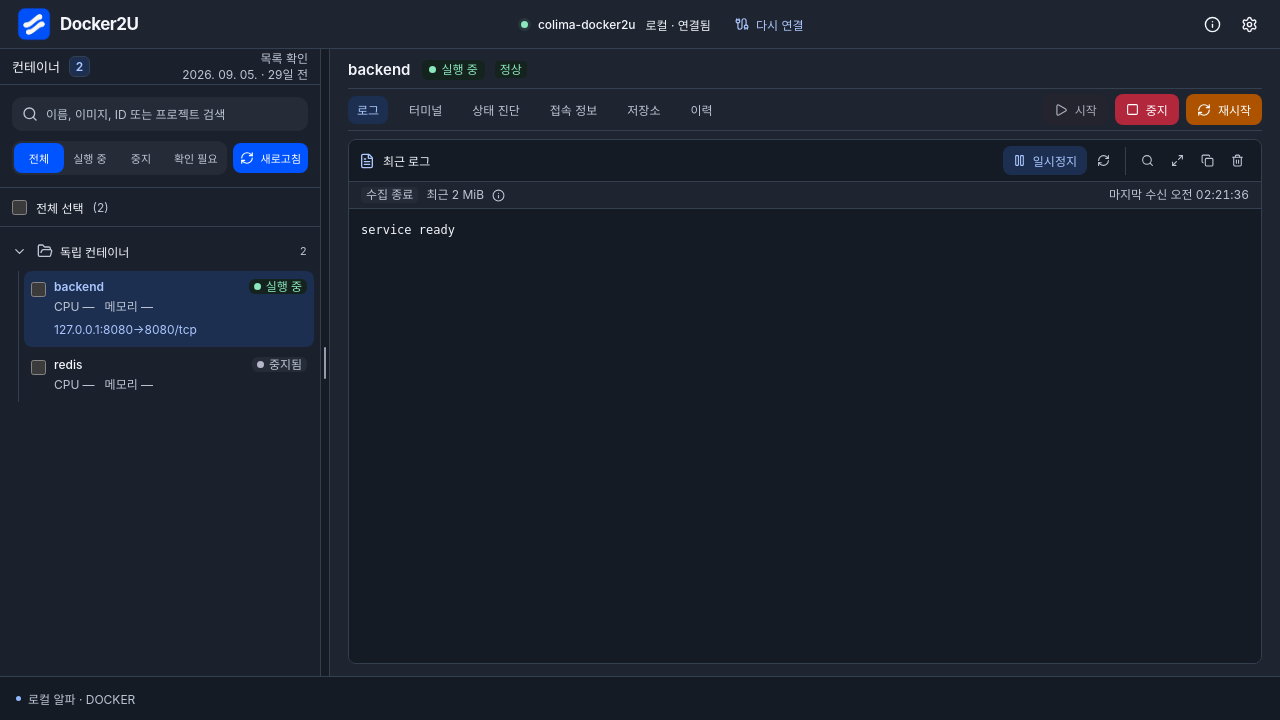
bulk selection and recovery › retains checked containers that remain visible after search and filter changes
Check: the list item with aria-label "backend 상세" is shown, box [24, 271, 314, 347]
Check: the button "새로고침" is enabled, box [232, 143, 308, 173]
Click the checkbox named "보이는 컨테이너 전체 선택" at (20, 207), box [12, 200, 27, 214]
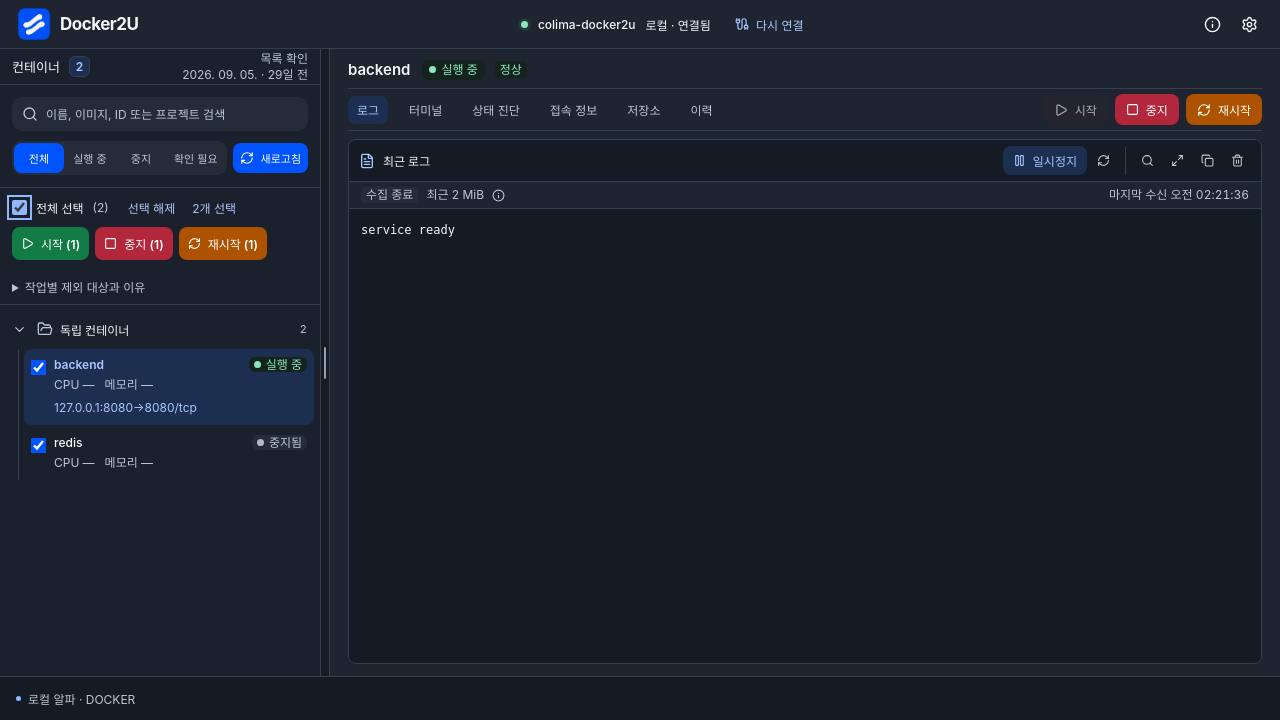
Check: the checkbox named "보이는 컨테이너 전체 선택" is checked, box [12, 200, 27, 214]
Check: the text "2개 선택" is shown, box [192, 198, 236, 216]
Type "redis" into the field named "컨테이너 검색" at (172, 114), box [46, 97, 298, 131]
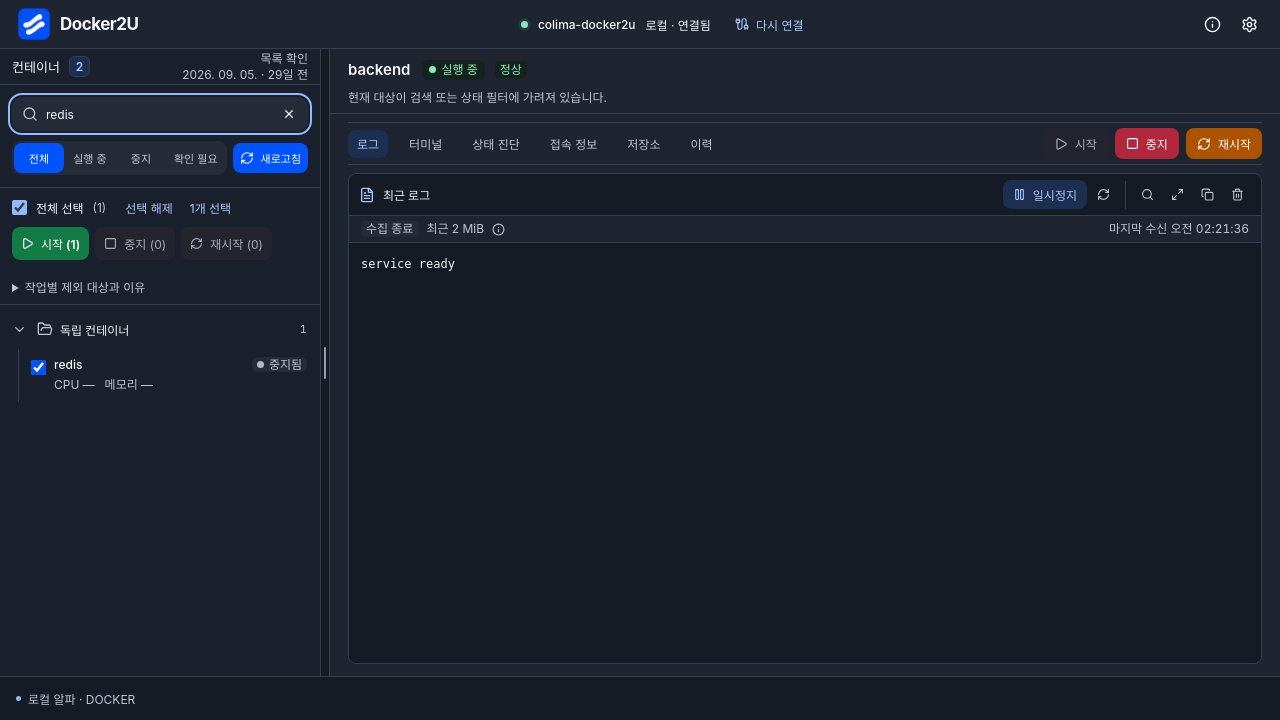
Check: the checkbox named "보이는 컨테이너 전체 선택" is checked, box [12, 200, 27, 214]
Check: the text "2개 선택" is gone
Check: the text "1개 선택" is shown, box [190, 198, 231, 216]
Click the button "시작 (1)" at (51, 244), box [12, 227, 89, 260]
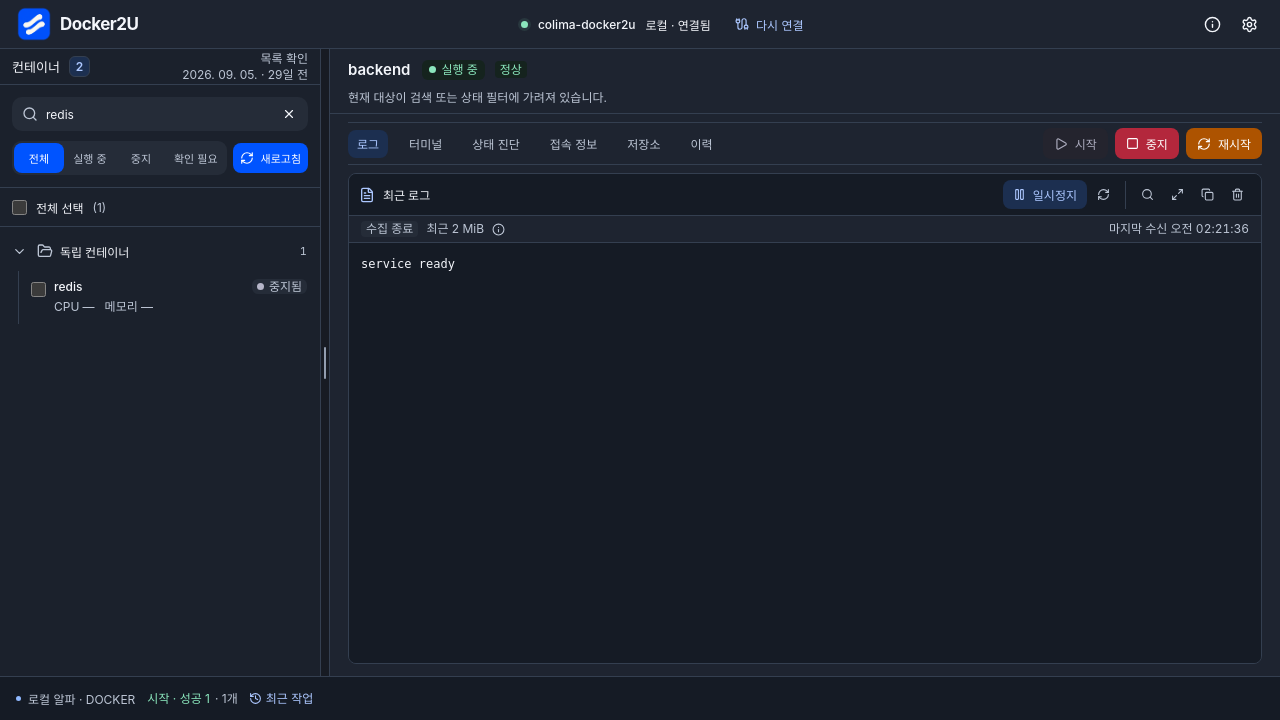
Check: the button "새로고침" is enabled, box [232, 143, 308, 173]
Check: the checkbox named "보이는 컨테이너 전체 선택" is not checked, box [12, 200, 27, 214]
Clear the field named "컨테이너 검색" at (159, 114), box [46, 97, 272, 131]
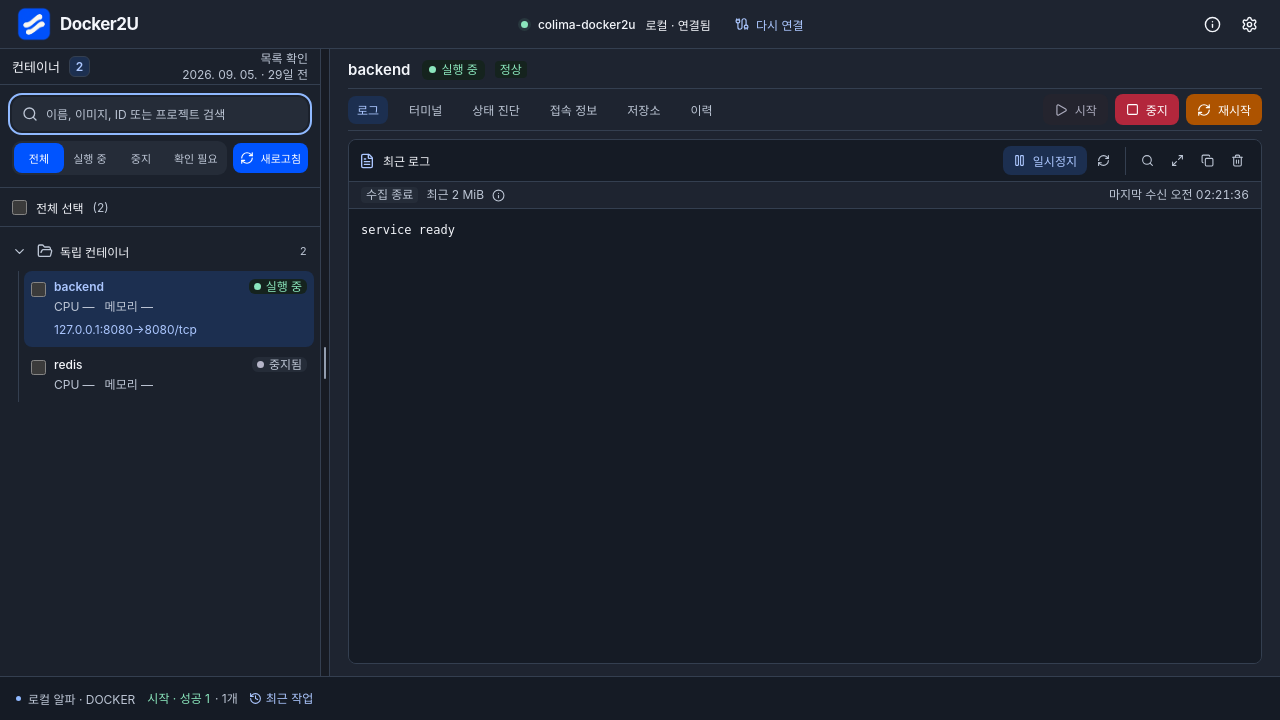
Click the checkbox named "보이는 컨테이너 전체 선택" at (20, 207), box [12, 200, 27, 214]
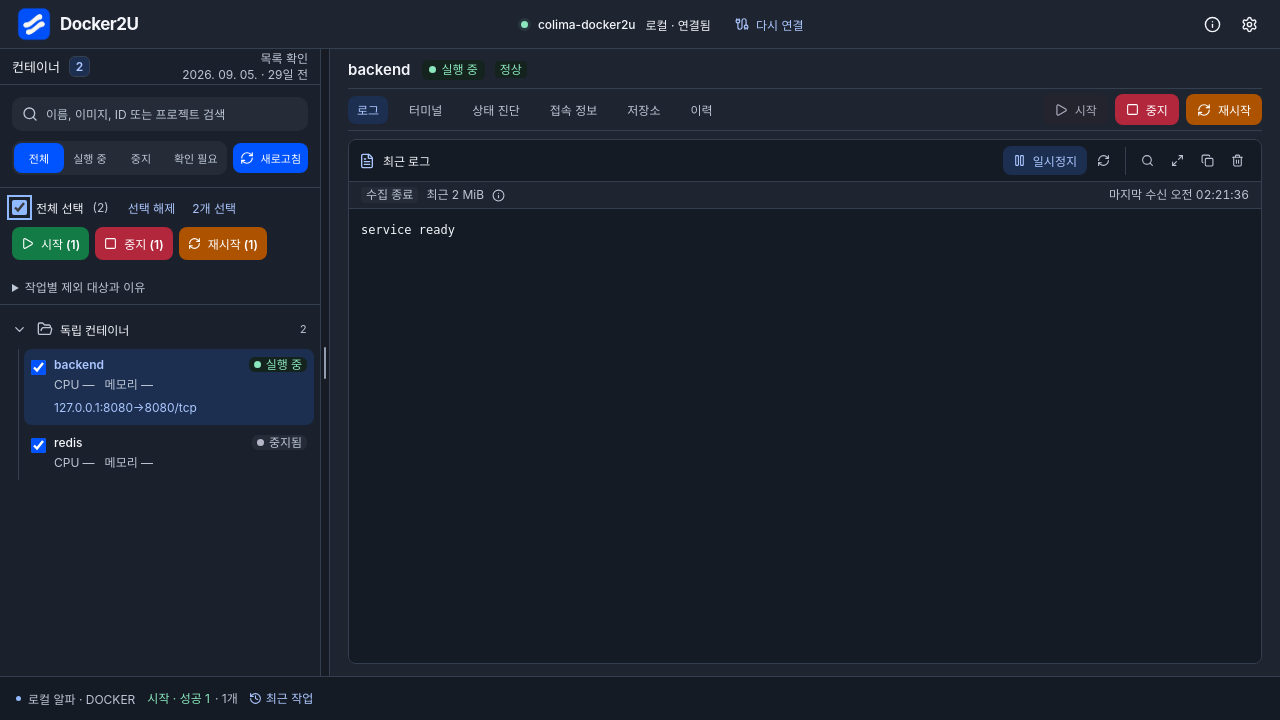
Click the button "실행 중" at (90, 158), box [65, 143, 115, 173]
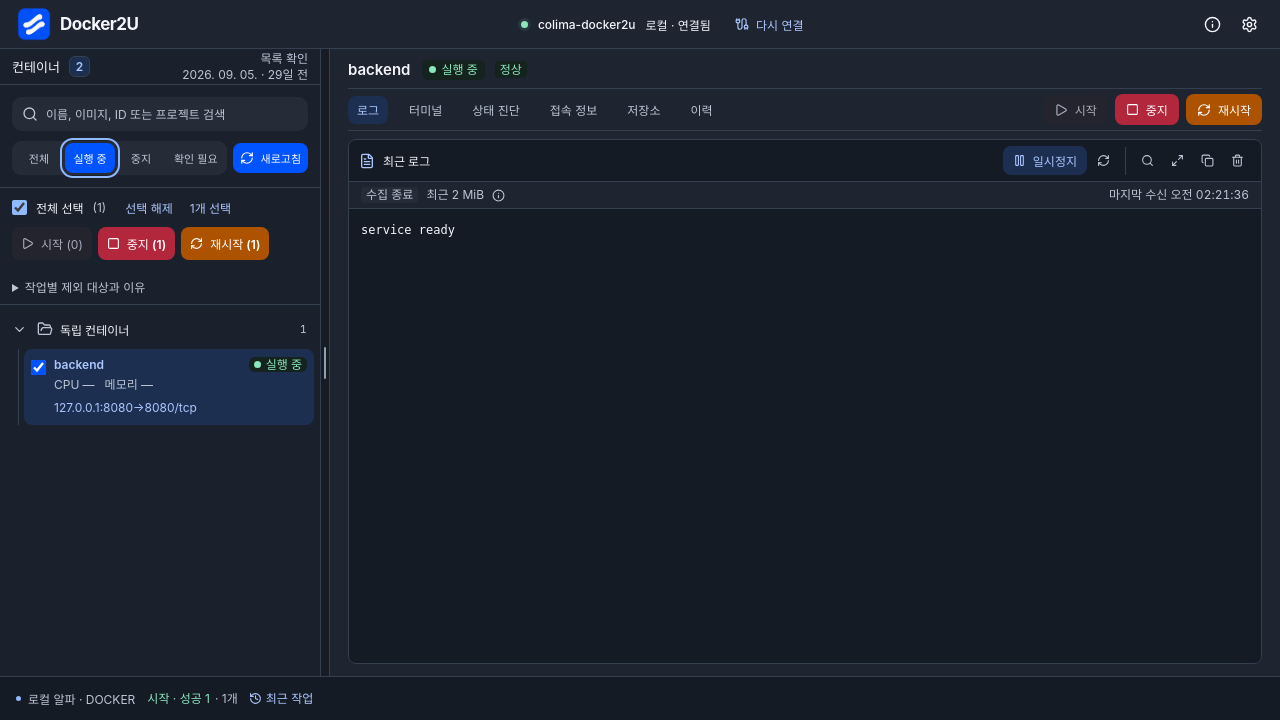
Check: the checkbox named "보이는 컨테이너 전체 선택" is checked, box [12, 200, 27, 214]
Check: the text "2개 선택" is gone
Check: the button "시작 (0)" is disabled, box [12, 227, 92, 260]
